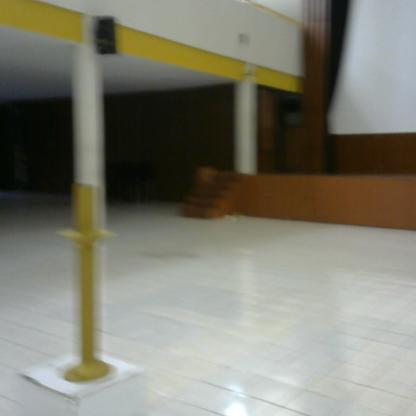pole: (50, 181, 126, 390)
